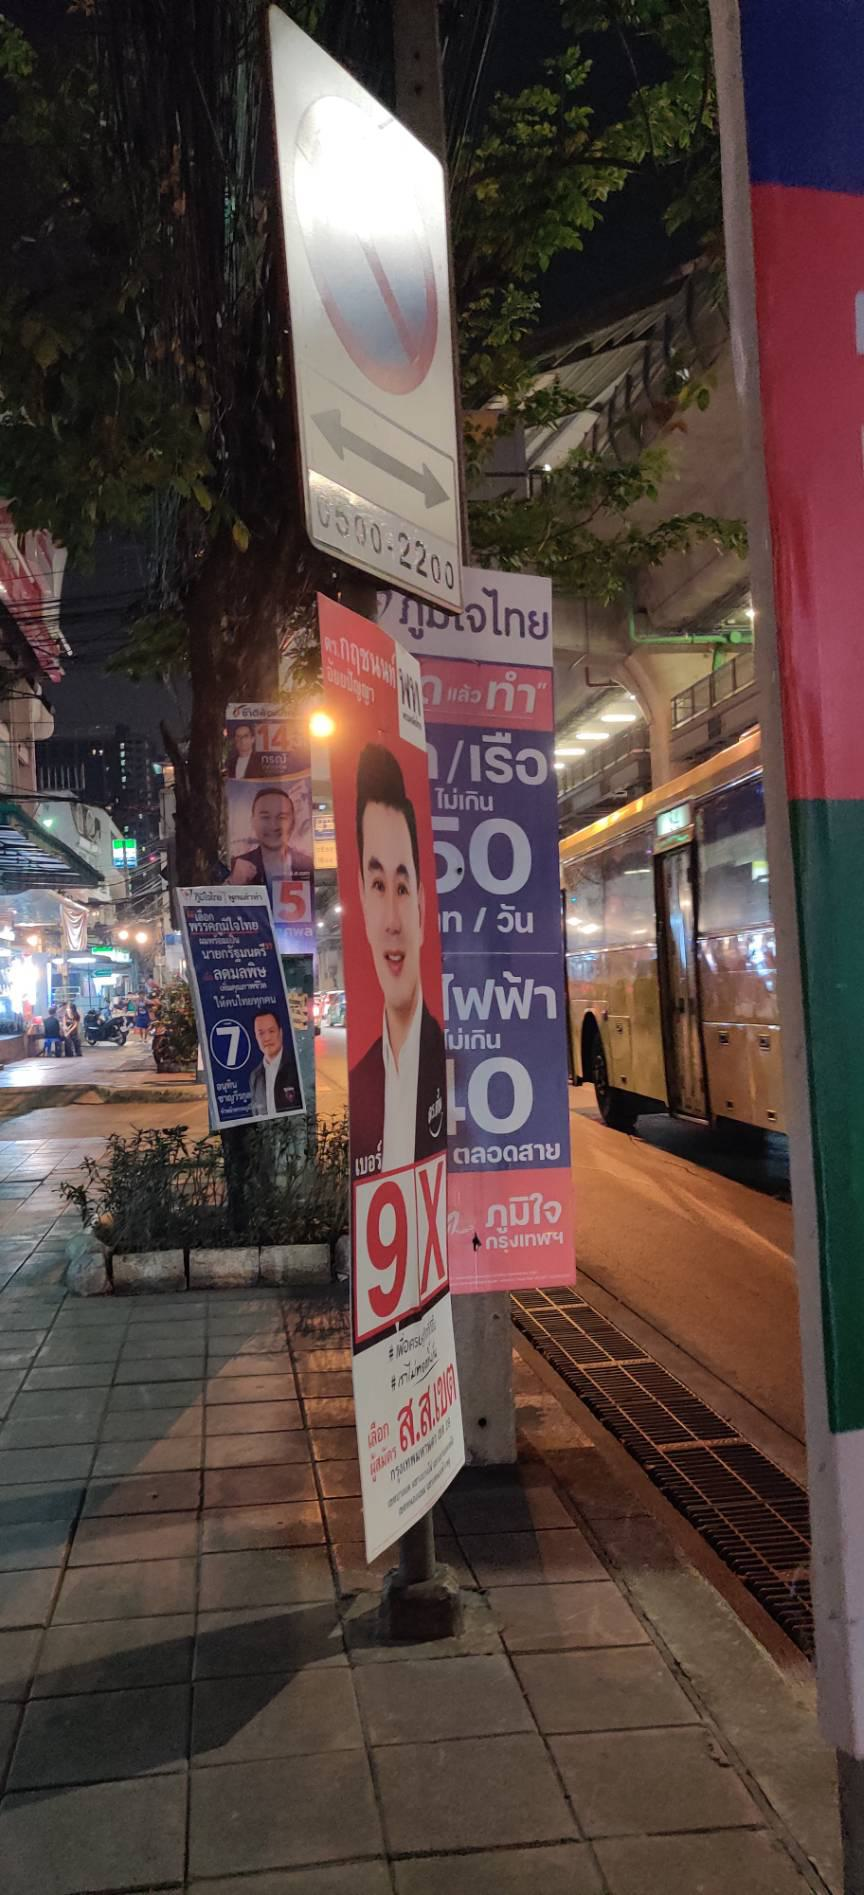Banner: (314, 605, 491, 1551), (395, 566, 559, 1296), (176, 883, 292, 1115), (221, 699, 285, 876)
